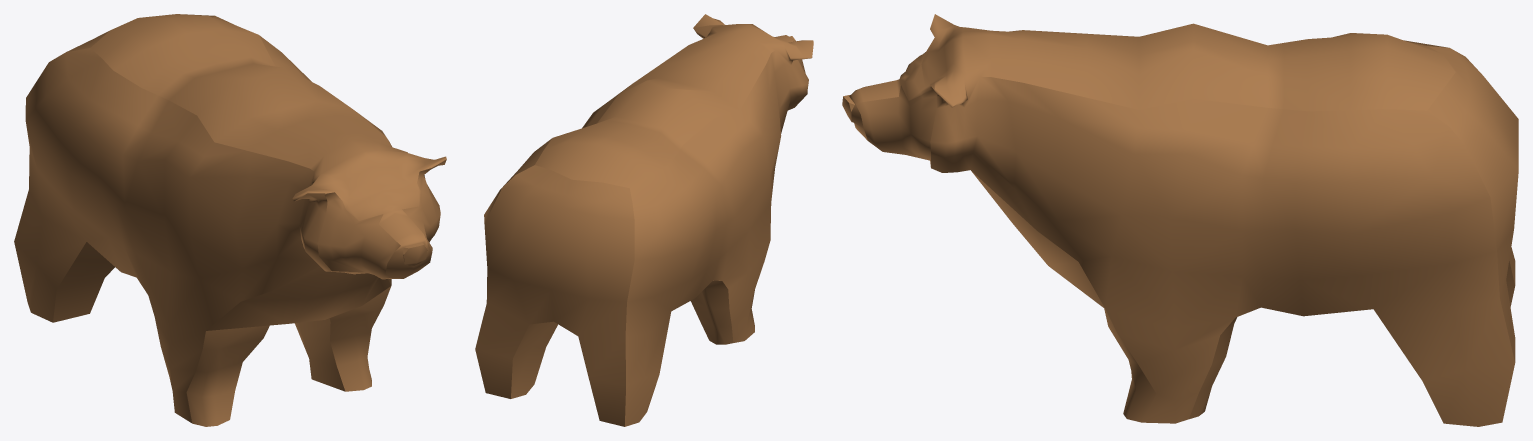
File: BEAR_Primitive_Mesh.fbx
The picture shows the model from 3 angles, left to right: view 1: azimuth 30°, elevation 25°; view 2: azimuth 150°, elevation 25°; view 3: azimuth 270°, elevation 25°; orthographic projection. The views are drawn at different scales.
Parts seen in each view (by area): view 1: Bear_Mesh; view 2: Bear_Mesh; view 3: Bear_Mesh.
Boxes of the visible parts, <box> form: Bear_Mesh: <box>14,14,446,426</box>; Bear_Mesh: <box>475,14,813,426</box>; Bear_Mesh: <box>842,14,1518,426</box>.
Bounding box in the file's own units: 3.53 × 4.53 × 8.15.
